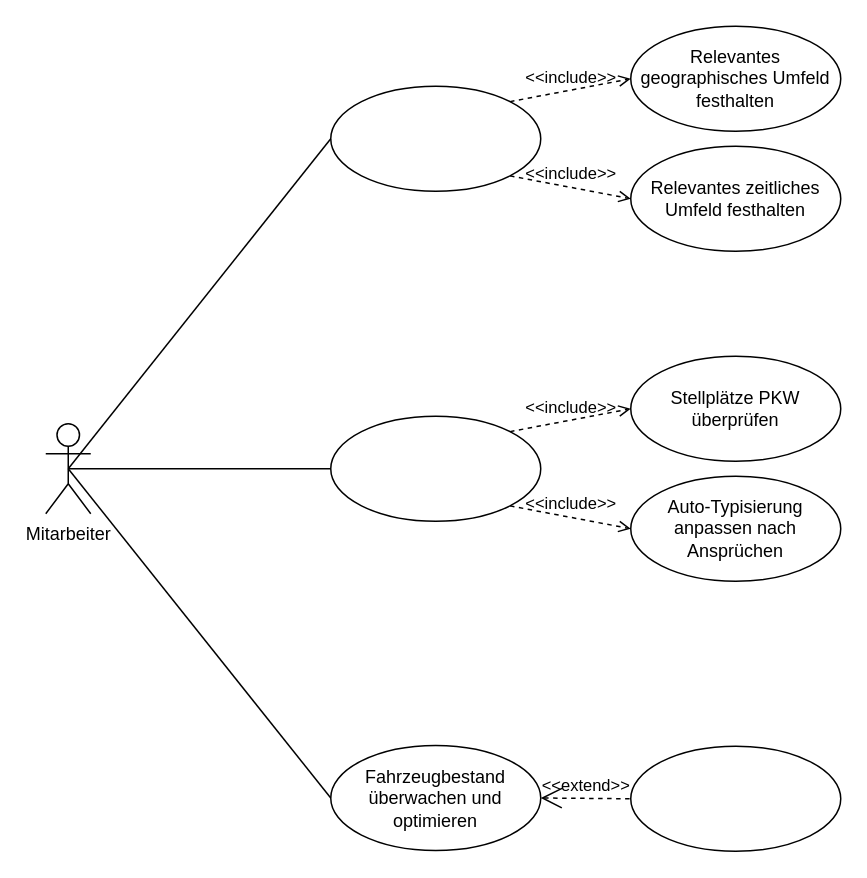
The diagram is 867 pixels wide and 878 high, and some of its shapes have lost their labels. The shapes that lost their labels are listed below. From the top down, each one's centre as x and y in pixels, then its label:
At (x=435, y=138): "Umfeld dokumentieren".
At (x=435, y=468): "Mietstation Stammdaten pflegen".
At (x=735, y=798): "Fahrzeugüberführung durchführen".
